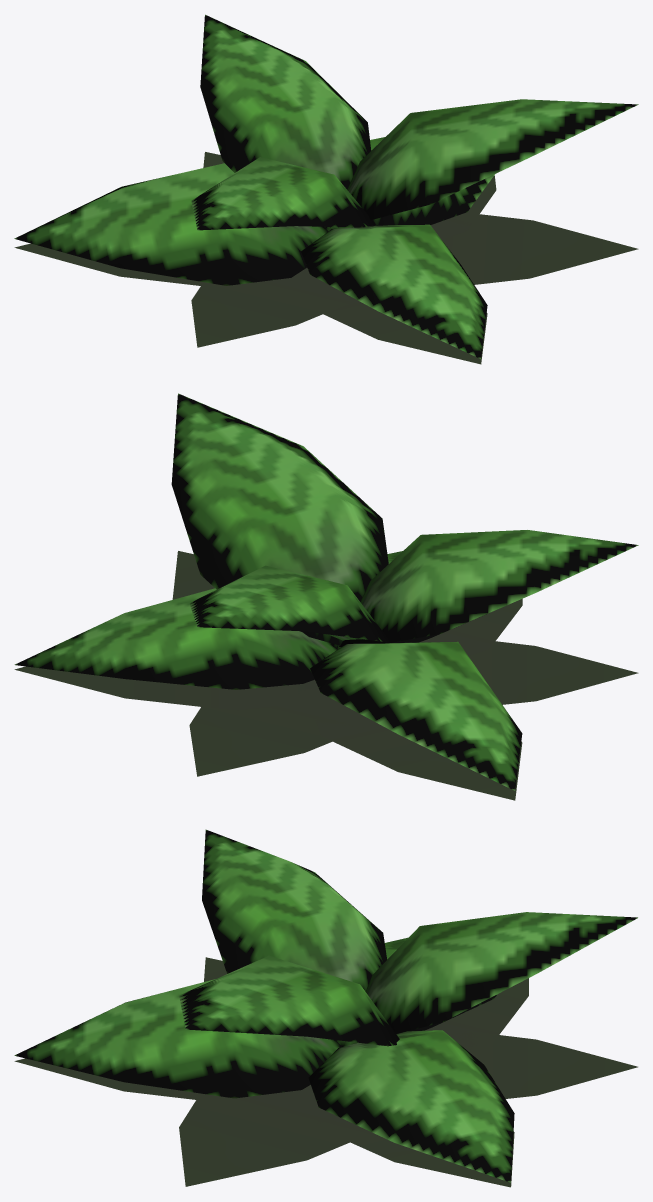
The model's file is bush_retro.glb.
The picture shows the model from 3 angles, top to bottom: view 1: azimuth 30°, elevation 25°; view 2: azimuth 150°, elevation 25°; view 3: azimuth 270°, elevation 25°; orthographic projection. The views are drawn at different scales.
Parts seen in each view (by area): view 1: deco_bushPlant; view 2: deco_bushPlant; view 3: deco_bushPlant.
Boxes of the visible parts, box(x1,y1,x2,y2) form: deco_bushPlant: box(14, 14, 638, 364); deco_bushPlant: box(14, 393, 638, 800); deco_bushPlant: box(14, 829, 637, 1187).
Bounding box in the file's own units: 2.9 × 0.8556 × 3.08.
Materials: 1 (1 with a texture image).
